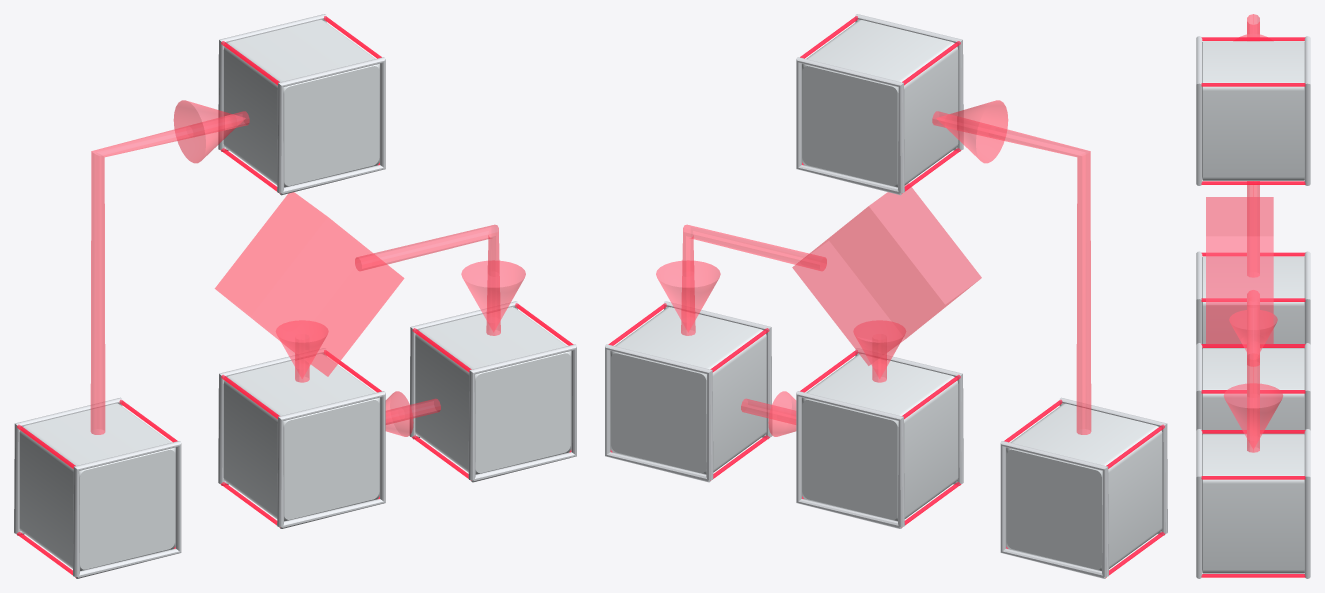
File: 17-workflow.glb
The picture shows the model from 3 angles, left to right: view 1: azimuth 30°, elevation 25°; view 2: azimuth 150°, elevation 25°; view 3: azimuth 270°, elevation 25°; orthographic projection. The views are drawn at different scales.
Parts seen in each view (by area): view 1: BC clear optical glass, BC ruby optical glass, BC polished silver metal, BC neon red glass edge; view 2: BC clear optical glass, BC ruby optical glass, BC polished silver metal, BC neon red glass edge; view 3: BC clear optical glass, BC ruby optical glass, BC polished silver metal, BC neon red glass edge.
Boxes of the visible parts, x1,y1,x2,y2 form: BC clear optical glass: (19,20,571,570); BC ruby optical glass: (90,100,525,436); BC polished silver metal: (14,14,576,578); BC neon red glass edge: (16,16,573,577); BC clear optical glass: (610,20,1162,570); BC ruby optical glass: (656,100,1091,436); BC polished silver metal: (605,14,1167,578); BC neon red glass edge: (608,16,1165,577); BC clear optical glass: (1202,41,1304,573); BC ruby optical glass: (1206,14,1282,452); BC polished silver metal: (1196,36,1310,578); BC neon red glass edge: (1201,37,1305,577).
Size of the model in its own units: 1.97 by 1.67 by 0.4228.
